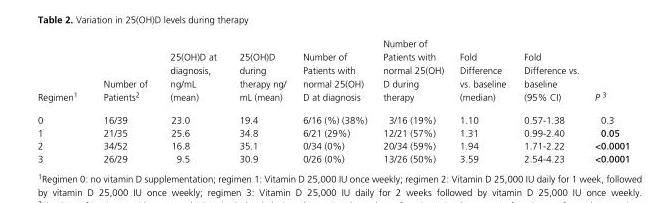table: (37, 37, 629, 163)
table column: (293, 37, 374, 163), (374, 37, 451, 163), (514, 37, 586, 163), (89, 37, 158, 163), (158, 37, 227, 163), (227, 37, 293, 163), (451, 37, 514, 163), (37, 37, 89, 163), (586, 37, 629, 163)
table column header: (37, 37, 629, 108)
table row: (37, 37, 629, 108), (37, 108, 629, 125), (37, 125, 629, 138), (37, 138, 629, 151), (37, 151, 629, 163)
